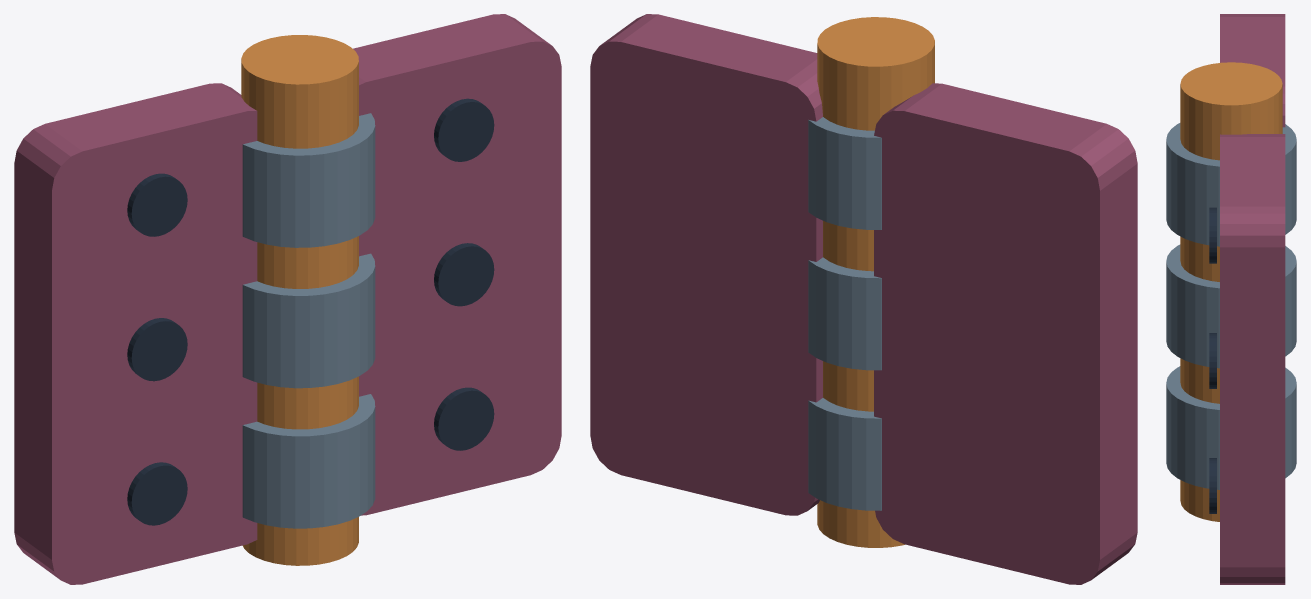
File: hingeplate.glb
The picture shows the model from 3 angles, left to right: view 1: azimuth 30°, elevation 25°; view 2: azimuth 150°, elevation 25°; view 3: azimuth 270°, elevation 25°; orthographic projection. The views are drawn at different scales.
Parts seen in each view (by area): view 1: leaf-1, leaf1, pin, fixing hole (×6), knuckle0.24, knuckle0.94, knuckle0.59; view 2: leaf-1, leaf1, pin, knuckle0.24, knuckle0.59, knuckle0.94; view 3: leaf1, pin, knuckle0.24, knuckle0.59, knuckle0.94, leaf-1, fixing hole (×3).
Part boxes in pixels (x1,y1,x2,y2): leaf-1: (14,83,257,584); leaf1: (353,14,561,515); pin: (241,35,358,565); fixing hole (×6): (127,98,494,525); knuckle0.24: (242,394,375,528); knuckle0.94: (242,113,375,247); knuckle0.59: (242,253,375,388); leaf-1: (874,83,1137,584); leaf1: (590,14,822,515); pin: (817,17,934,547); knuckle0.24: (808,398,881,510); knuckle0.59: (808,257,881,370); knuckle0.94: (808,117,881,229); leaf1: (1220,134,1285,584); pin: (1180,62,1282,521); knuckle0.24: (1166,366,1296,489); knuckle0.59: (1166,244,1296,368); knuckle0.94: (1166,123,1296,246); leaf-1: (1220,14,1285,127); fixing hole (×3): (1209,207,1216,513).
Bounding box in the file's own units: 1.33 × 1.2 × 0.34.
